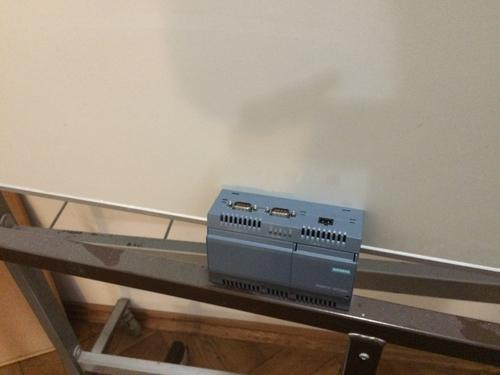iot2000: (206, 188, 366, 313)
